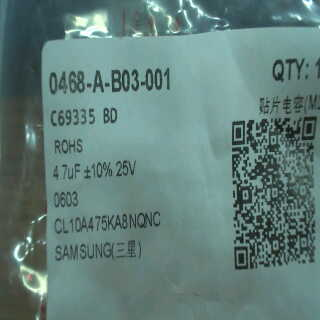4.7uF: (48, 158, 83, 186)
